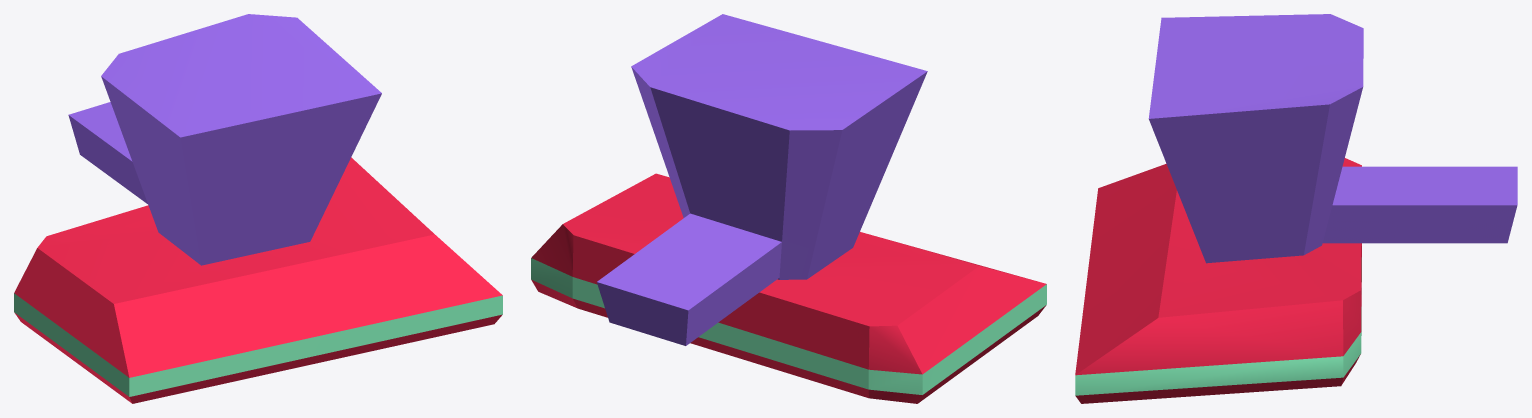
The model's file is Kitchen_Exhaust.fbx.
3 renders of one model, left to right at view 1: azimuth 30°, elevation 25°; view 2: azimuth 150°, elevation 25°; view 3: azimuth 270°, elevation 25°, orthographic. The views are drawn at different scales.
Visible parts, largest first — view 1: Exhaust; view 2: Exhaust; view 3: Exhaust.
Boxes of the visible parts, <box> form: Exhaust: <box>14,14,502,403</box>; Exhaust: <box>531,14,1046,403</box>; Exhaust: <box>1075,14,1517,403</box>.
Size of the model in its own units: 113 by 71.97 by 111.
Materials: 1 (1 with a texture image).
